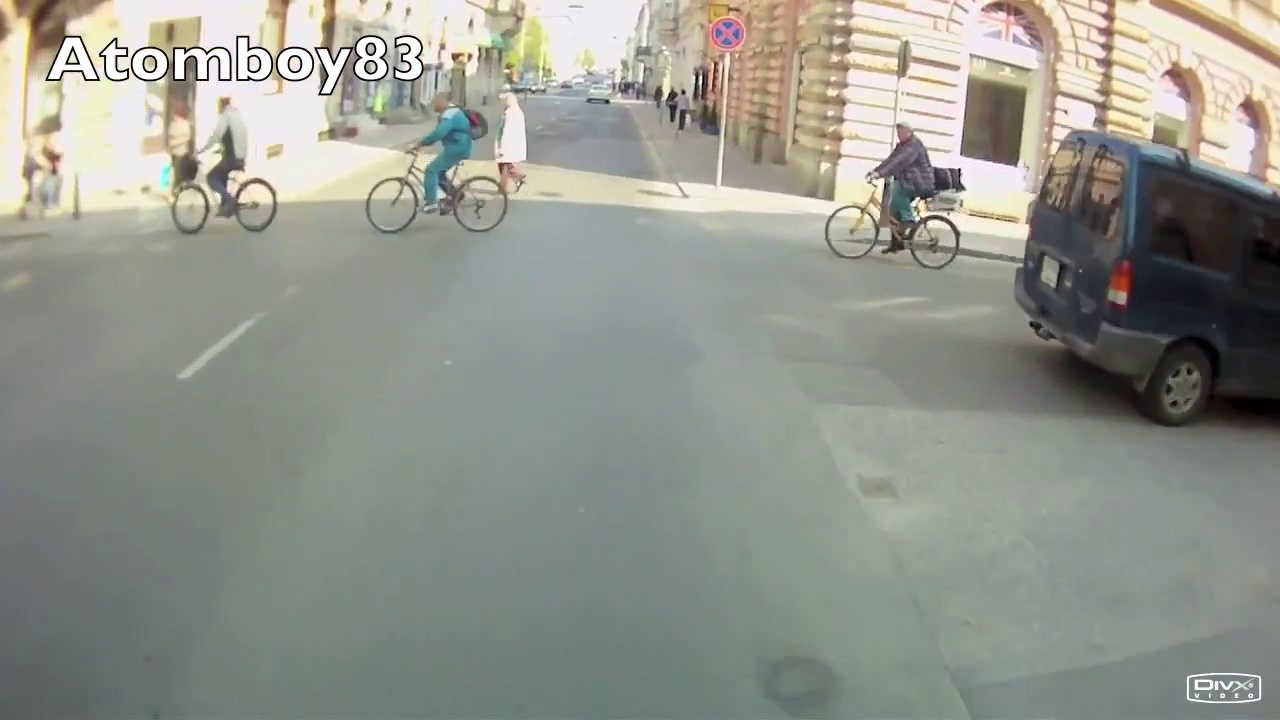cyclist_side: (819, 122, 968, 274), (368, 94, 507, 234), (169, 93, 284, 234)
